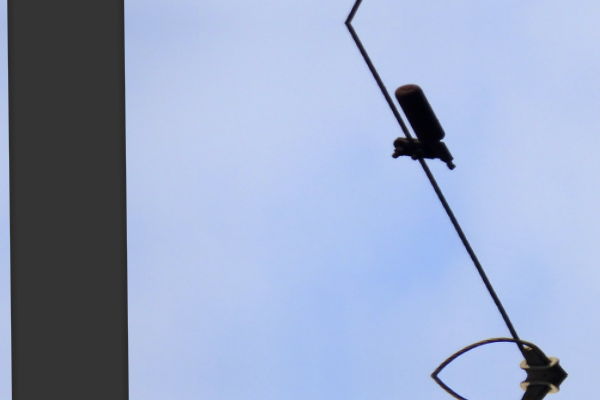damper_defect: (388, 82, 460, 174)
